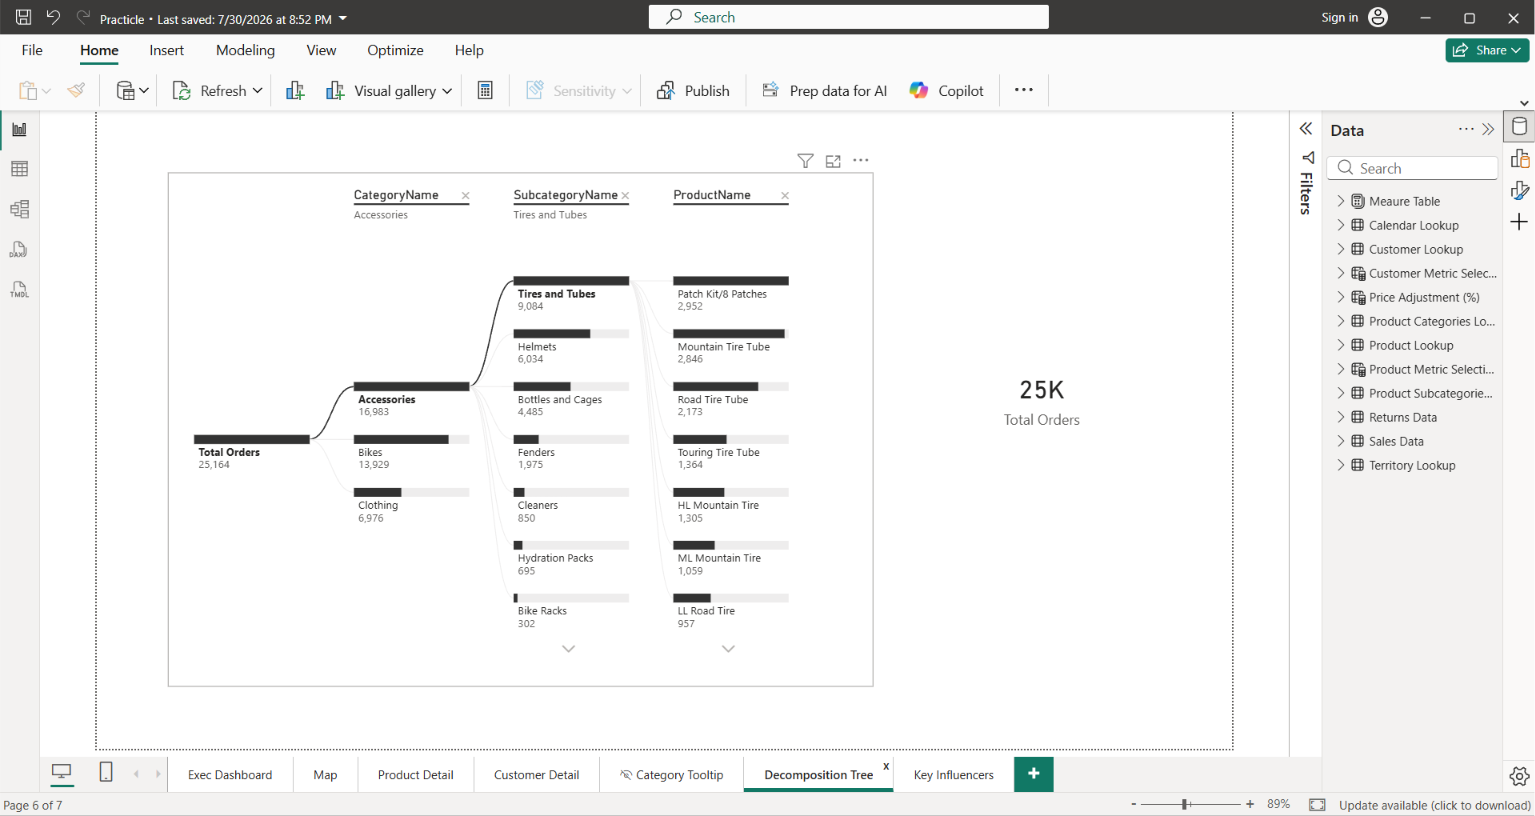

This screenshot's page, from the dashboard's own definition file:
{"tool":"powerbi","page":{"name":"Decomposition Tree","canvas":[1280,720],"ordinal":5},"visuals":[{"type":"decompositionTreeVisual","fields":{"ExplainBy":["Product Categories Lookup.CategoryName","Product Subcategories Lookup.SubcategoryName","Product Lookup.ProductName"],"Analyze":["Meaure Table.Total Orders"]},"box":[80.2,69.8,795.4,580.2],"z":0},{"type":"card","fields":{"Values":["Meaure Table.Total Orders"]},"box":[927.9,215.1,275.6,216.3],"z":1000}]}

Visuals, with their boxes on the page's 1280x720 design canvas (x1, y1, x2, y2). These are canvas units, not pixel positions in the 1535x816 screenshot, which may show the page scaled, cropped or inside an application window:
decompositionTreeVisual - Product Categories Lookup.CategoryName x Product Subcategories Lookup.SubcategoryName: <box>80,70,876,650</box>
card - Meaure Table.Total Orders: <box>928,215,1204,431</box>
